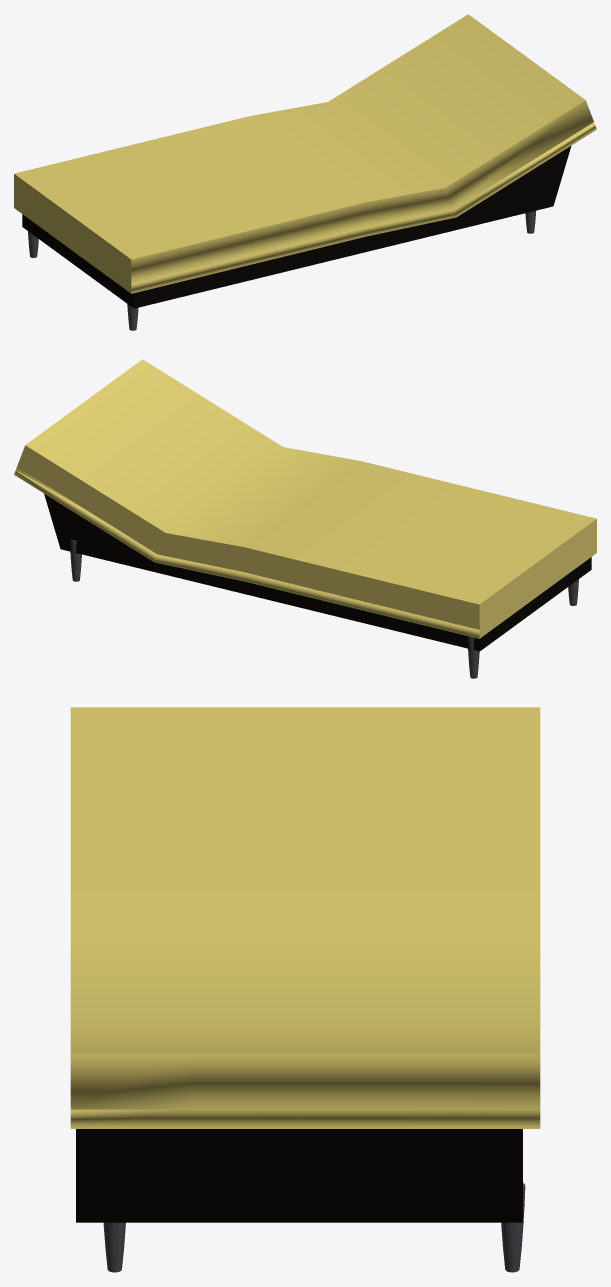
File: Tumbona.fbx
3 views of the same model, one above another, from view 1: azimuth 30°, elevation 25°; view 2: azimuth 150°, elevation 25°; view 3: azimuth 270°, elevation 25° (orthographic). The views are drawn at different scales.
Parts seen in each view (by area): view 1: Tumbona, BaseTumbona002, PatasTumbona001; view 2: Tumbona, BaseTumbona002, PatasTumbona001; view 3: Tumbona, BaseTumbona002, PatasTumbona001.
Boxes of the visible parts, left/top/right/bottom form: Tumbona: left=14, top=14, right=596, bottom=293; BaseTumbona002: left=22, top=146, right=571, bottom=308; PatasTumbona001: left=28, top=210, right=535, bottom=330; Tumbona: left=14, top=359, right=596, bottom=638; BaseTumbona002: left=44, top=493, right=591, bottom=651; PatasTumbona001: left=70, top=539, right=578, bottom=678; Tumbona: left=70, top=707, right=540, bottom=1128; BaseTumbona002: left=76, top=1129, right=522, bottom=1222; PatasTumbona001: left=103, top=1183, right=525, bottom=1272.
Bounding box in the file's own units: 2.45 × 0.6508 × 1.07.
